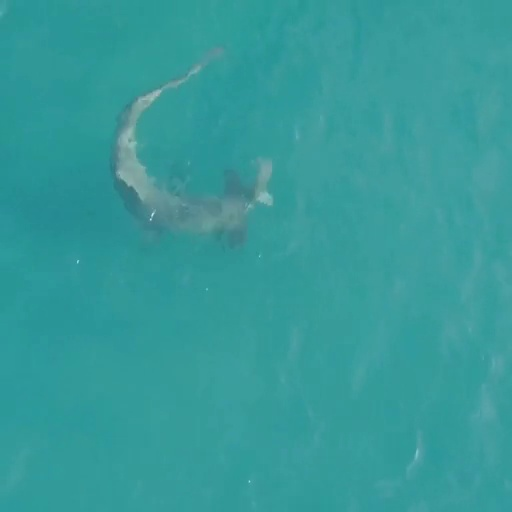shark: (107, 45, 254, 251)
